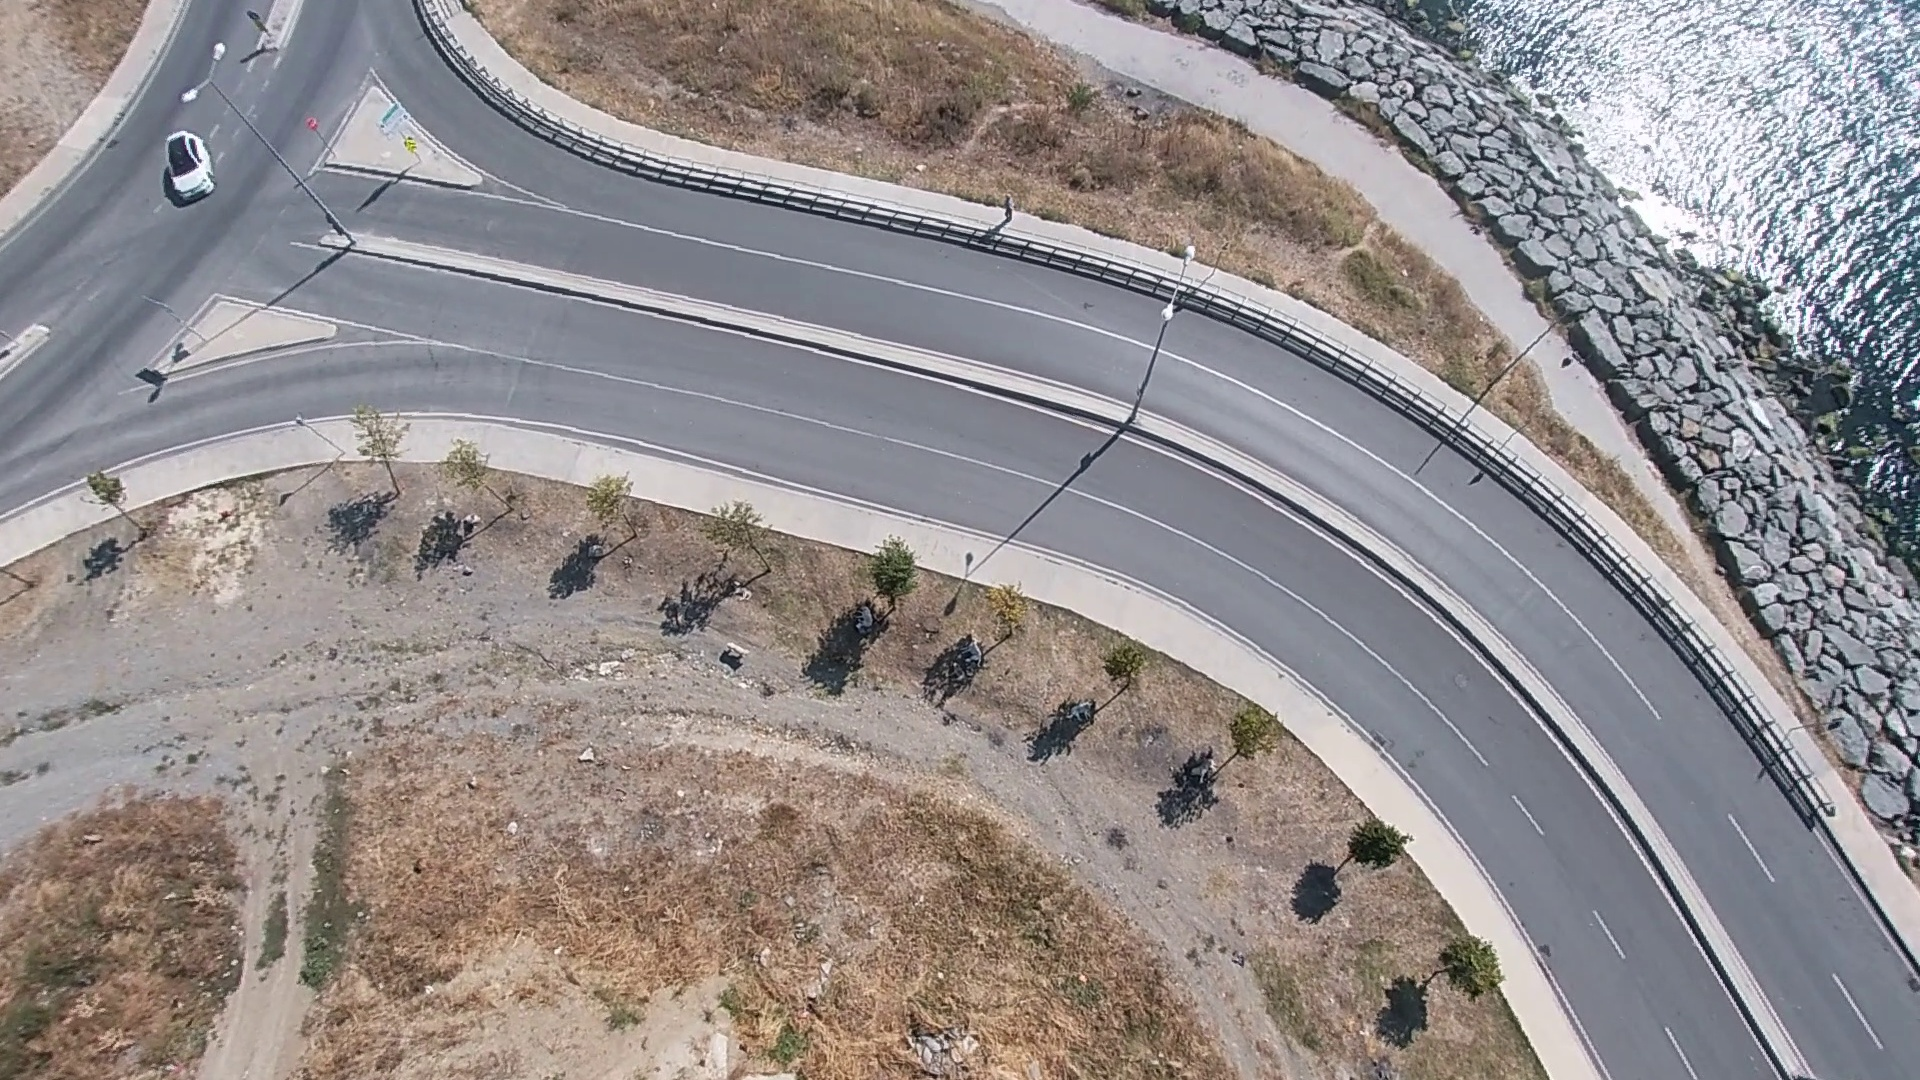arac: (162, 129, 222, 206)
